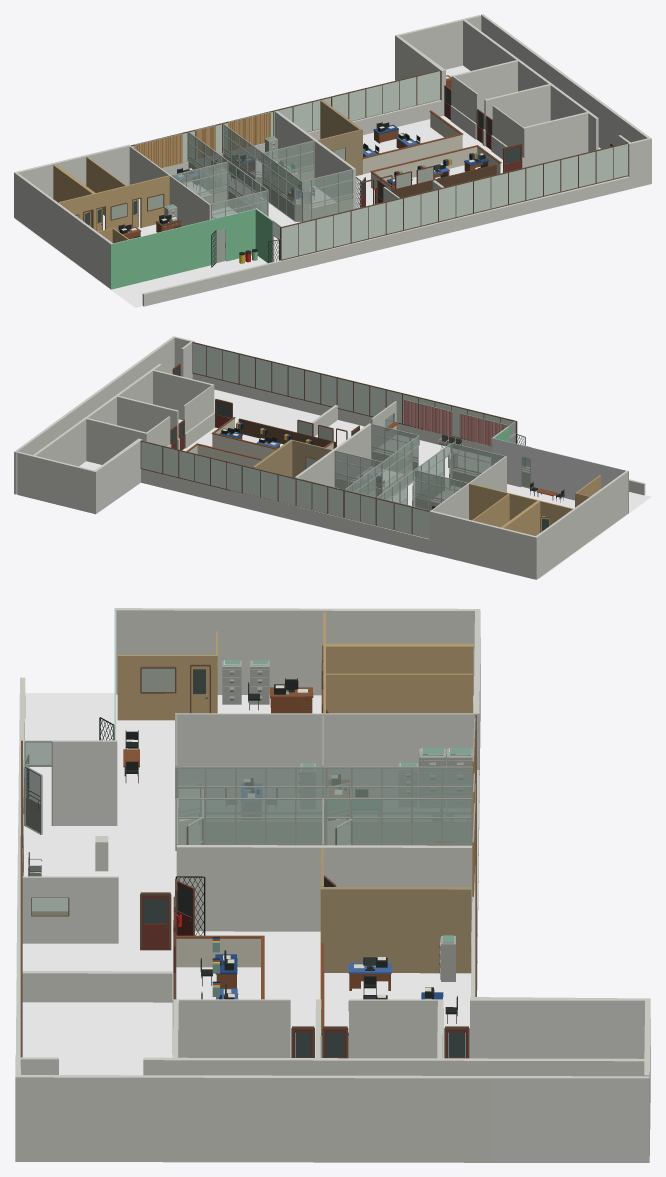
The model's file is BIRO FIX.glb.
3 views of the same model, one above another, from view 1: azimuth 30°, elevation 25°; view 2: azimuth 150°, elevation 25°; view 3: azimuth 270°, elevation 25° (orthographic). The views are drawn at different scales.
Parts seen in each view (by area): view 1: A2_Fasad_hijau, A1_Tiiang.003_Dinding_Bawah, A4_Tiang 2.008_Dinding_Bawah, A4_Tiang 2.007_Dinding_Bawah, A3_Tiiang.006_Dinding_Bawah, A2_Tiang 2.003_Dinding_Bawah, A4_Tiang 4.005_Dinding_Bawah, A1_Tiiang.005_Dinding_Bawah, A1_Tiang 2.009_Dinding_Bawah, A4_Tiang 4.007_Dinding_Bawah, A2_Tiiang.006_Dinding_Bawah, A1_Ubin (+62 smaller); view 2: A1_Tiiang.005_Dinding_Bawah, A1_Tiiang.003_Dinding_Bawah, A1_Jendela_depan_Bawah.001, A4_Tiang 4.007_Dinding_Bawah, A4_Tiang 2.008_Dinding_Bawah, A4_Tiang 2.007_Dinding_Bawah, A3_Ubin, A2_Ubin, A3_Tiiang.005_Dinding_Bawah, A3_Tiang 3.017_Dinding_Bawah, A2_Tiiang.005_Dinding_Bawah, A2_Tiang 2.003_Dinding_Bawah (+66 smaller); view 3: A4_Tiang 2.008_Dinding_Bawah, A3_Ubin, A1_Tiang 2.009_Dinding_Bawah, A2_Tiang 2.003_Dinding_Bawah, A1_Tiiang.003_Dinding_Bawah, A2_Ubin, A3_Tiang 2.005_Dinding_Bawah, A3_Tiang 3.017_Dinding_Bawah, A1_Ubin, A4_Tiang 2.007_Dinding_Bawah, A4_Tiang 3.006_Dinding_Bawah, A1_Tiang 3.010_Panel_bawah.008 (+39 smaller).
Part boxes in pixels (bbox=[...]): A2_Fasad_hijau: bbox=[110, 219, 215, 289]; A1_Tiiang.003_Dinding_Bawah: bbox=[14, 172, 113, 288]; A4_Tiang 2.008_Dinding_Bawah: bbox=[481, 14, 651, 184]; A4_Tiang 2.007_Dinding_Bawah: bbox=[463, 19, 598, 151]; A3_Tiiang.006_Dinding_Bawah: bbox=[402, 176, 629, 243]; A2_Tiang 2.003_Dinding_Bawah: bbox=[275, 111, 355, 209]; A4_Tiang 4.005_Dinding_Bawah: bbox=[523, 112, 588, 167]; A1_Tiiang.005_Dinding_Bawah: bbox=[16, 144, 130, 198]; A1_Tiang 2.009_Dinding_Bawah: bbox=[129, 146, 210, 226]; A4_Tiang 4.007_Dinding_Bawah: bbox=[398, 15, 481, 69]; A2_Tiiang.006_Dinding_Bawah: bbox=[251, 231, 402, 280]; A1_Ubin: bbox=[15, 199, 238, 307]; A1_Tiiang.005_Dinding_Bawah: bbox=[429, 510, 535, 579]; A1_Tiiang.003_Dinding_Bawah: bbox=[534, 470, 628, 579]; A1_Jendela_depan_Bawah.001: bbox=[493, 438, 625, 500]; A4_Tiang 4.007_Dinding_Bawah: bbox=[17, 451, 94, 513]; A4_Tiang 2.008_Dinding_Bawah: bbox=[14, 336, 175, 494]; A4_Tiang 2.007_Dinding_Bawah: bbox=[33, 364, 161, 466]; A3_Ubin: bbox=[182, 399, 403, 452]; A2_Ubin: bbox=[351, 436, 529, 505]; A3_Tiiang.005_Dinding_Bawah: bbox=[141, 469, 290, 519]; A3_Tiang 3.017_Dinding_Bawah: bbox=[93, 438, 142, 514]; A2_Tiiang.005_Dinding_Bawah: bbox=[290, 505, 429, 553]; A2_Tiang 2.003_Dinding_Bawah: bbox=[295, 423, 371, 486]; A4_Tiang 2.008_Dinding_Bawah: bbox=[15, 1075, 649, 1162]; A3_Ubin: bbox=[22, 935, 471, 1075]; A1_Tiang 2.009_Dinding_Bawah: bbox=[175, 713, 474, 798]; A2_Tiang 2.003_Dinding_Bawah: bbox=[176, 845, 472, 931]; A1_Tiiang.003_Dinding_Bawah: bbox=[115, 608, 480, 695]; A2_Ubin: bbox=[23, 798, 471, 934]; A3_Tiang 2.005_Dinding_Bawah: bbox=[320, 887, 471, 973]; A3_Tiang 3.017_Dinding_Bawah: bbox=[470, 997, 650, 1058]; A1_Ubin: bbox=[25, 693, 473, 798]; A4_Tiang 2.007_Dinding_Bawah: bbox=[143, 1057, 644, 1076]; A4_Tiang 3.006_Dinding_Bawah: bbox=[172, 999, 290, 1057]; A1_Tiang 3.010_Panel_bawah.008: bbox=[326, 673, 472, 713].
Bounding box in the file's own units: 39.98 × 3.58 × 22.85.
